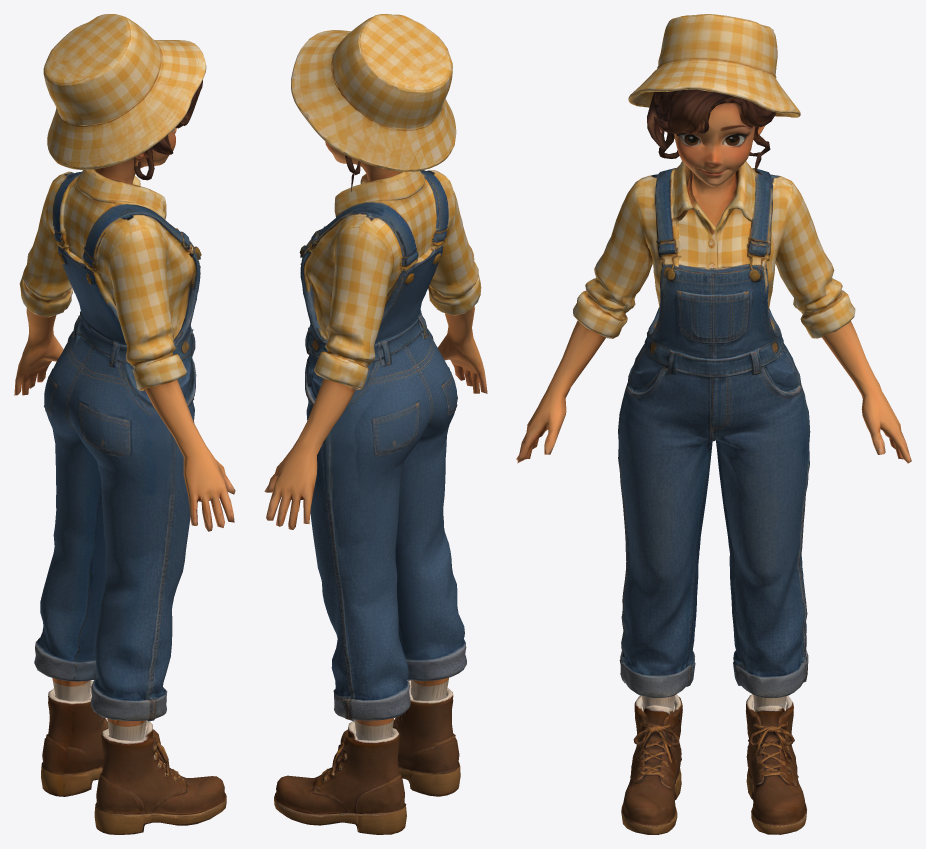
Rendered from YwonderNPC.glb.
The picture shows the model from 3 angles, left to right: view 1: azimuth 30°, elevation 25°; view 2: azimuth 150°, elevation 25°; view 3: azimuth 270°, elevation 25°; orthographic projection.
Parts seen in each view (by area): view 1: tripo_node_cca293b4-e6b3-44b7-aa44-03bbf9874b6d; view 2: tripo_node_cca293b4-e6b3-44b7-aa44-03bbf9874b6d; view 3: tripo_node_cca293b4-e6b3-44b7-aa44-03bbf9874b6d.
Boxes of the visible parts, left/top/right/bottom form: tripo_node_cca293b4-e6b3-44b7-aa44-03bbf9874b6d: left=14, top=14, right=235, bottom=834; tripo_node_cca293b4-e6b3-44b7-aa44-03bbf9874b6d: left=264, top=14, right=487, bottom=834; tripo_node_cca293b4-e6b3-44b7-aa44-03bbf9874b6d: left=516, top=14, right=911, bottom=834.
Size of the model in its own units: 0.1839 by 0.98 by 0.4422.
1 material, 1 textured.
